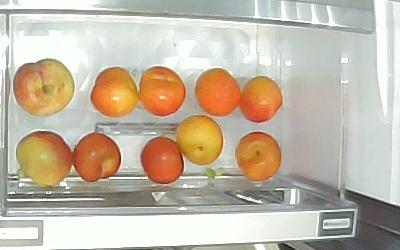prune: (12, 57, 74, 117), (15, 129, 74, 188), (73, 132, 123, 183), (89, 67, 137, 118), (139, 65, 186, 116), (177, 116, 224, 166), (195, 67, 240, 117), (236, 132, 281, 182), (140, 136, 185, 185), (241, 75, 283, 124)
